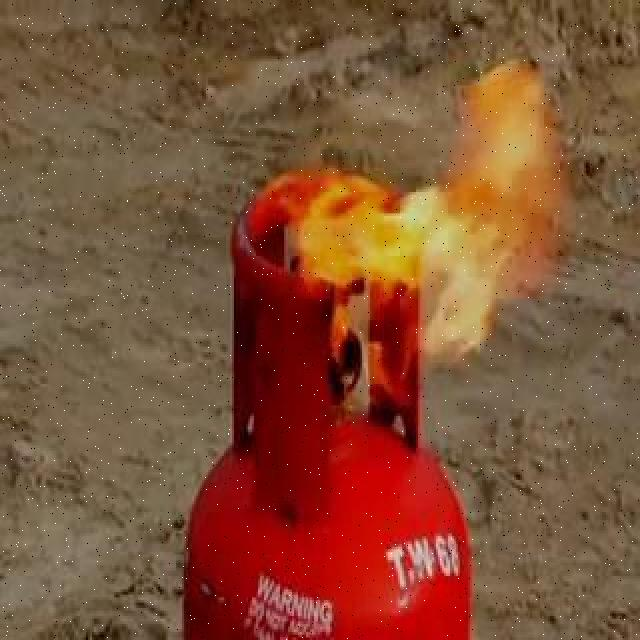fire: (298, 158, 499, 363)
